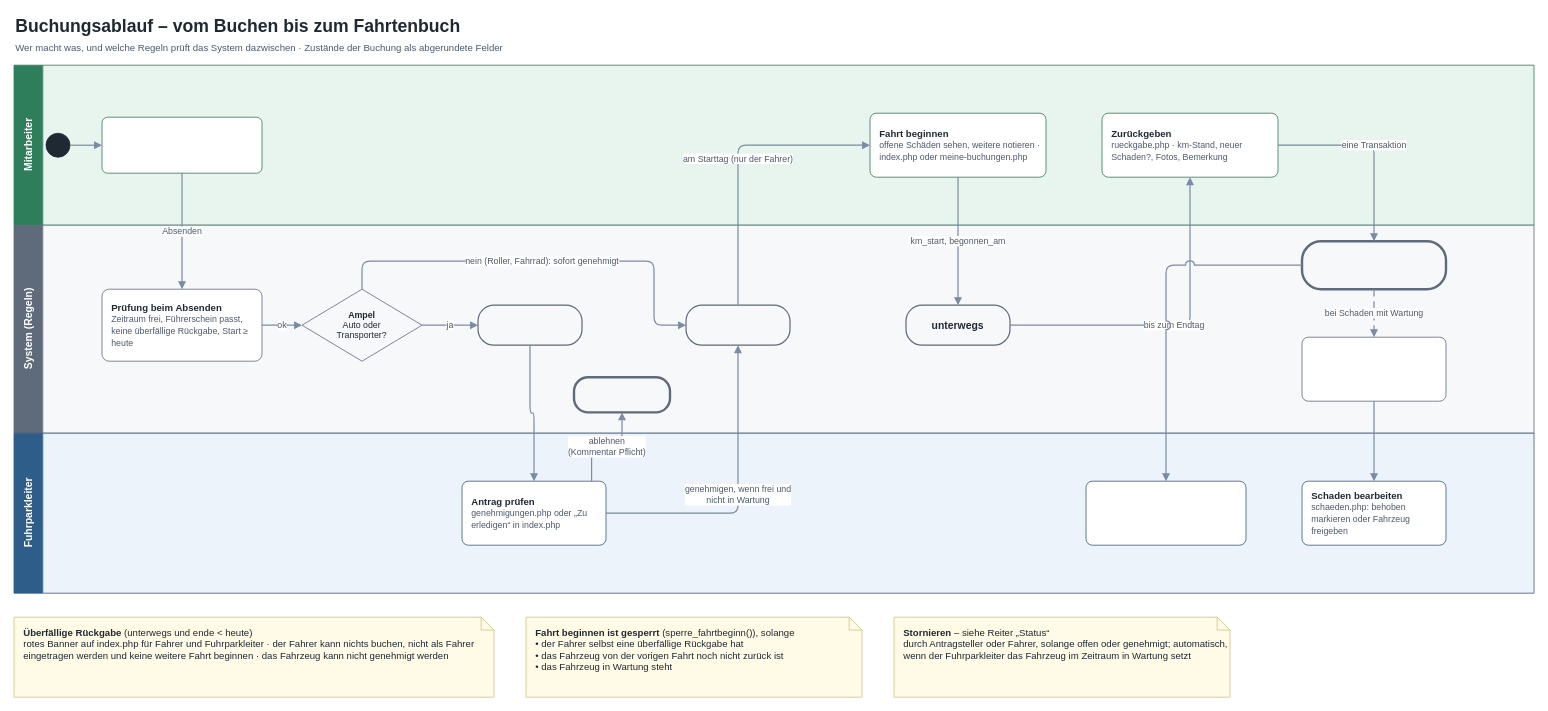
The diagram is 1548 pixels wide and 711 high, and some of its shapes have lost their labels. The centre of each missing label's shape, as x and y in pixels:
abgelehnt: the point at 621,394
abgeschlossen = Fahrtenbucheintrag: the point at 1373,265
Fahrzeug buchen buchen.php · Zeitraum, Personen, Zweck, Fahrer: the point at 181,144
genehmigt: the point at 737,324
Historie auswerten historie.php · Fahrtenbuch, Kennzahlen, Filter: the point at 1165,512
offen: the point at 529,324
Schaden mit Wartung neue Wartung mit offenem Ende; Schaden bleibt offen: the point at 1373,368
